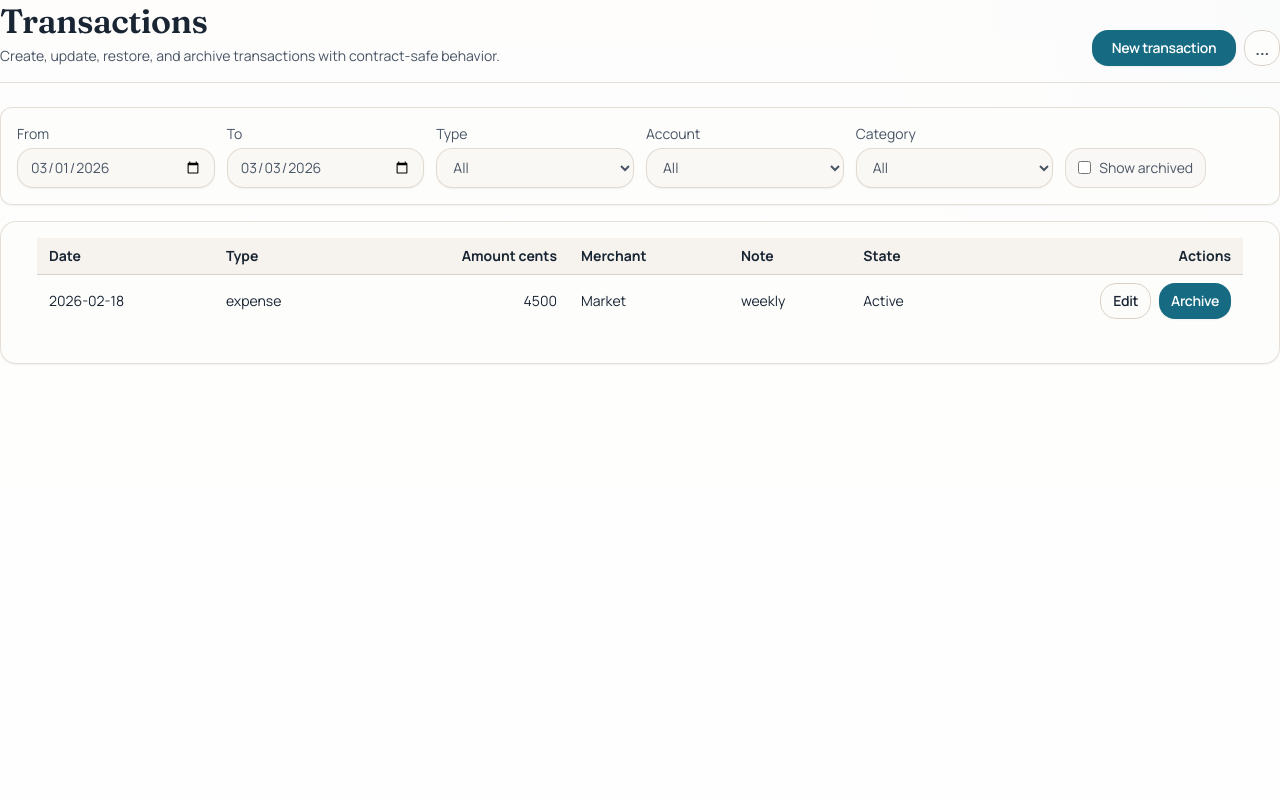
TransactionsPage › archives transaction and refetches list
Expected: the text "Market" is shown, x1=569 y1=274 x2=729 y2=327
Click the button "Archive": point(1195, 301) x1=1159 y1=283 x2=1231 y2=319
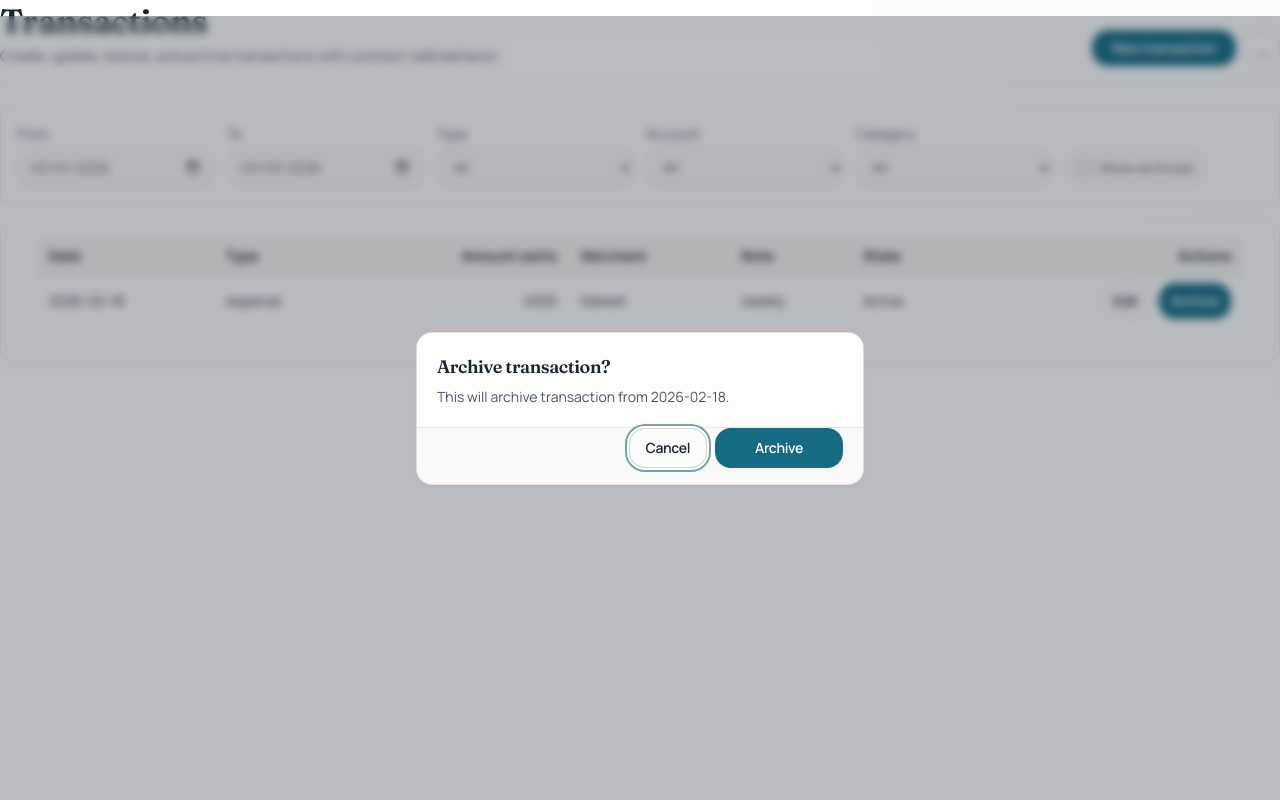
Click the button "Archive": point(779, 448) x1=715 y1=428 x2=843 y2=468
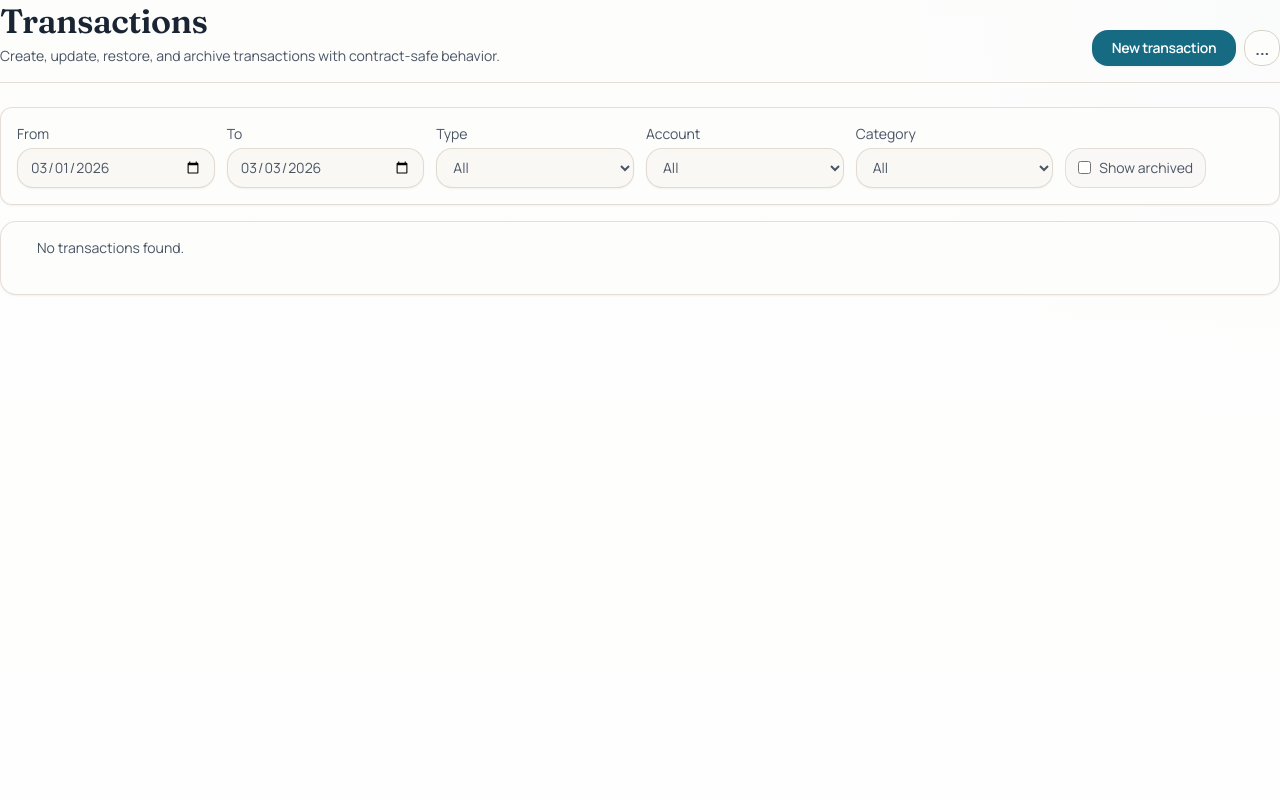
Result: the text "No transactions found." is shown at x1=37 y1=238 x2=184 y2=257
